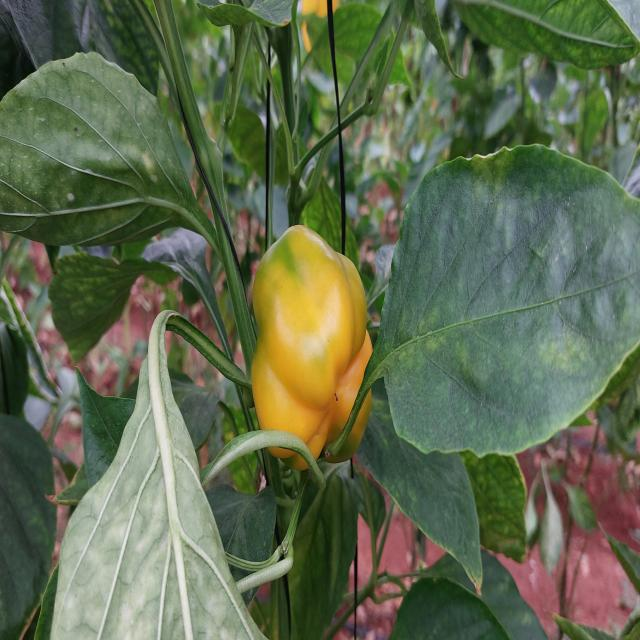Yellow-Ready-to-Harvest: (250, 230, 373, 465)
